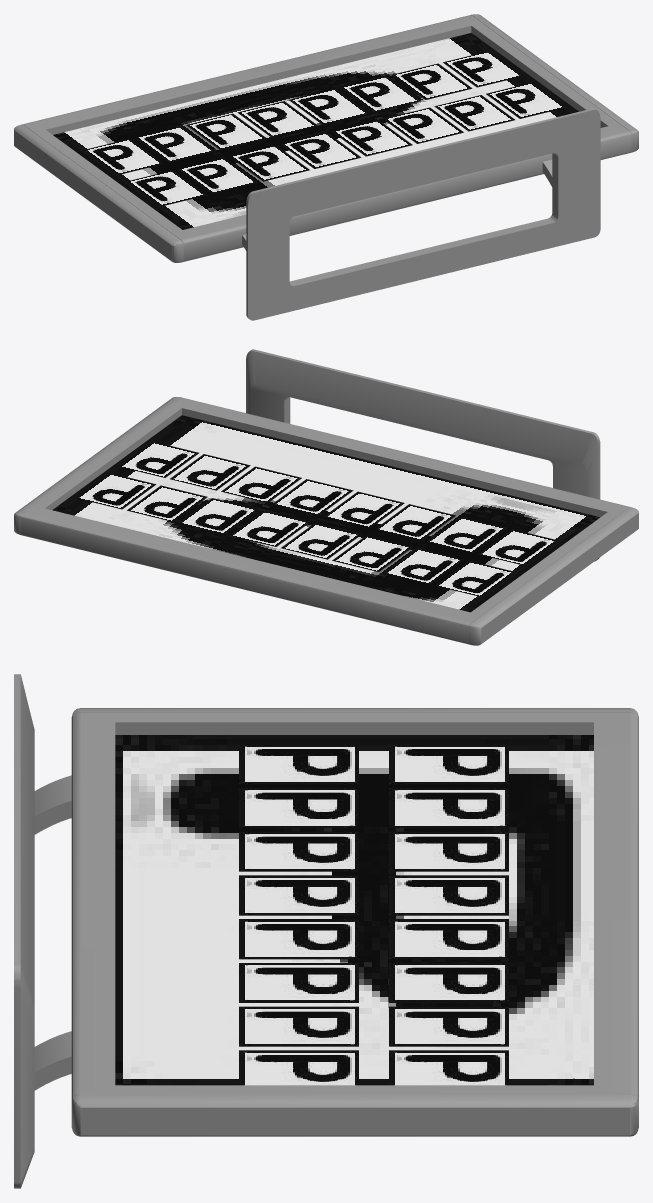
3 renders of one model, top to bottom at view 1: azimuth 30°, elevation 25°; view 2: azimuth 150°, elevation 25°; view 3: azimuth 270°, elevation 25°, orthographic. The views are drawn at different scales.
Visible parts, largest first — view 1: tv_Chrome_mattv2, Screen2, Letter08, Letter07, Letter03, Letter11, Letter12, Letter13, Letter15, Letter06, Letter01, Letter09 (+6 smaller); view 2: tv_Chrome_mattv2, Screen2, Letter09, Letter04, Letter08, Letter10, Letter12, Letter14, Letter06, Letter05, Letter03, Letter01 (+6 smaller); view 3: Screen2, tv_Chrome_mattv2, Letter08, Letter10, Letter11, Letter12, Letter14, Letter06, Letter04, Letter03, Letter02, Letter00 (+6 smaller).
Part boxes in pixels (x1,y1,x2,y2): tv_Chrome_mattv2: (14, 14, 638, 320); Screen2: (53, 33, 578, 229); Letter08: (126, 170, 207, 206); Letter07: (443, 51, 523, 87); Letter03: (237, 101, 318, 137); Letter11: (280, 132, 361, 168); Letter12: (332, 120, 412, 156); Letter13: (383, 107, 463, 143); Letter15: (486, 82, 566, 118); Letter06: (392, 63, 472, 99); Letter01: (135, 126, 215, 162); Letter09: (178, 157, 258, 193); tv_Chrome_mattv2: (14, 349, 638, 645); Screen2: (52, 415, 599, 612); Letter09: (426, 516, 507, 552); Letter04: (229, 510, 309, 546); Letter08: (478, 529, 558, 565); Letter10: (375, 504, 455, 540); Letter12: (272, 479, 353, 515); Letter14: (170, 454, 250, 490); Letter06: (127, 485, 207, 521); Letter05: (178, 498, 258, 534); Letter03: (281, 523, 361, 559); Letter01: (383, 548, 464, 584); Screen2: (115, 735, 593, 1085); tv_Chrome_mattv2: (14, 674, 638, 1188); Letter08: (239, 744, 358, 784); Letter10: (239, 831, 358, 871); Letter11: (239, 875, 358, 915); Letter12: (239, 919, 358, 959); Letter14: (239, 1006, 358, 1046); Letter06: (389, 1006, 508, 1046); Letter04: (389, 919, 508, 959); Letter03: (389, 875, 508, 915); Letter02: (389, 831, 508, 871); Letter00: (389, 744, 508, 784).
Size of the model in its own units: 0.00314 by 0.000819 by 0.00208.
